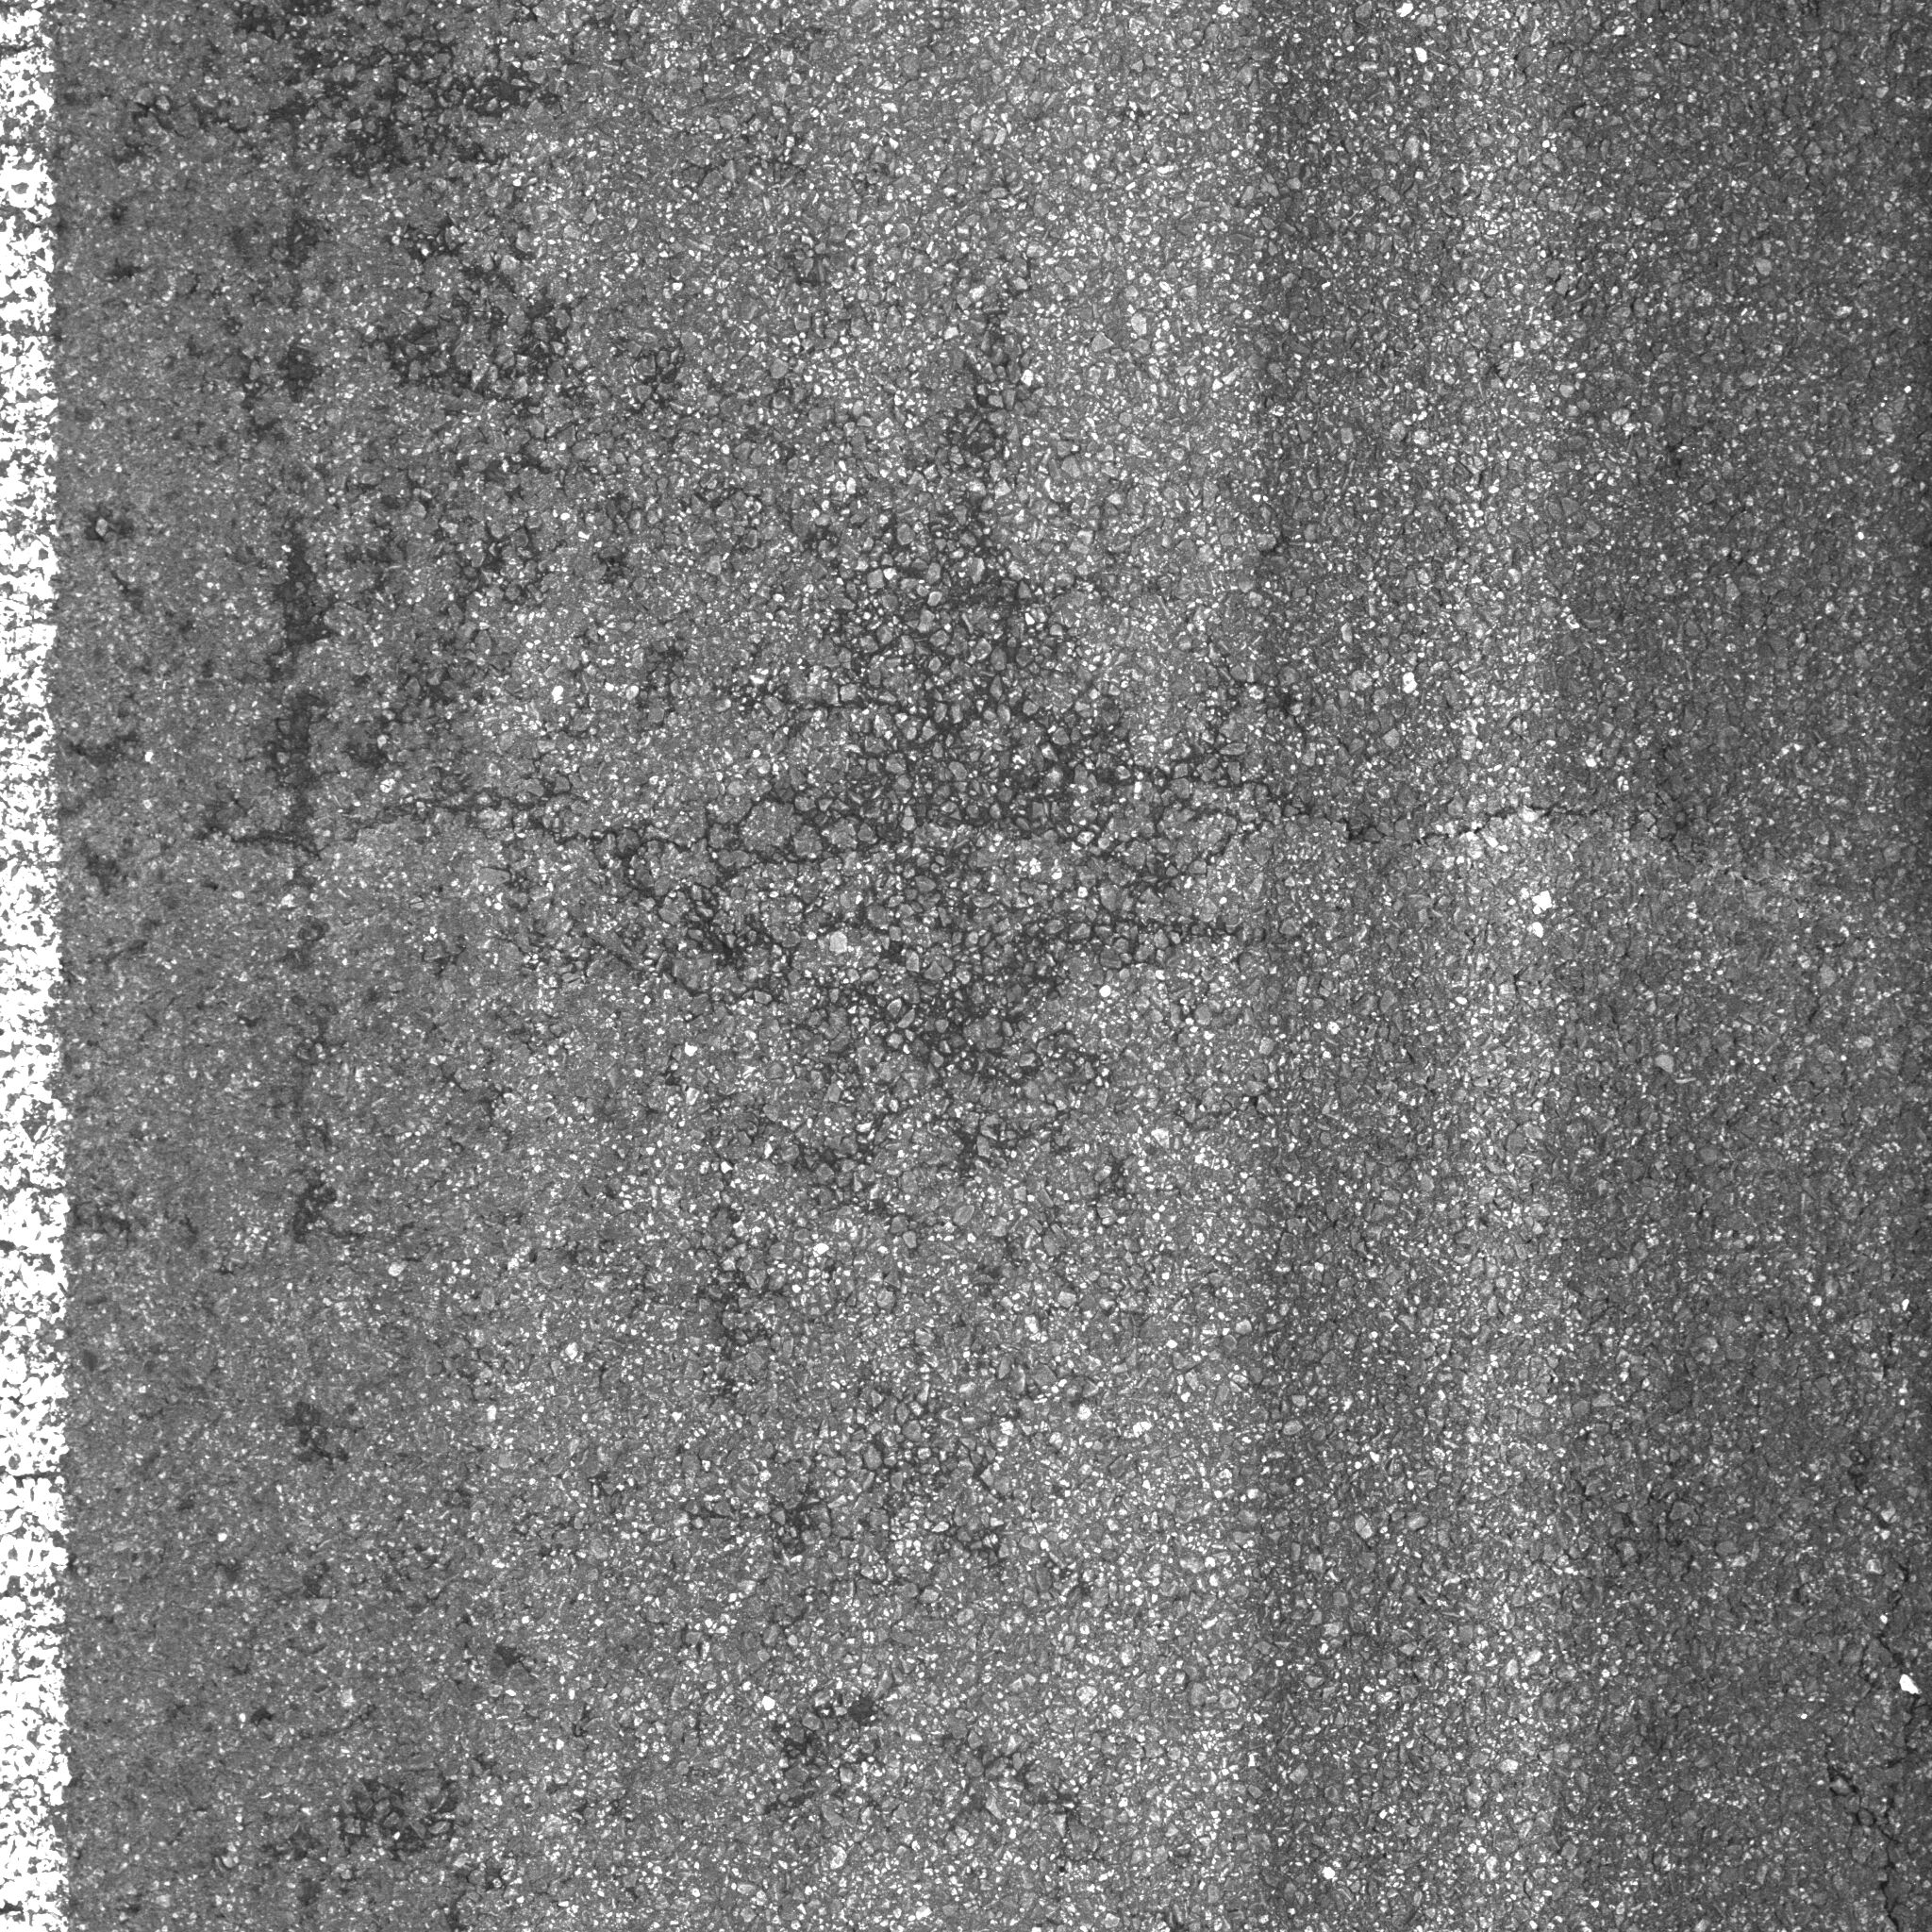transeverse: (1161, 667, 1691, 870)
